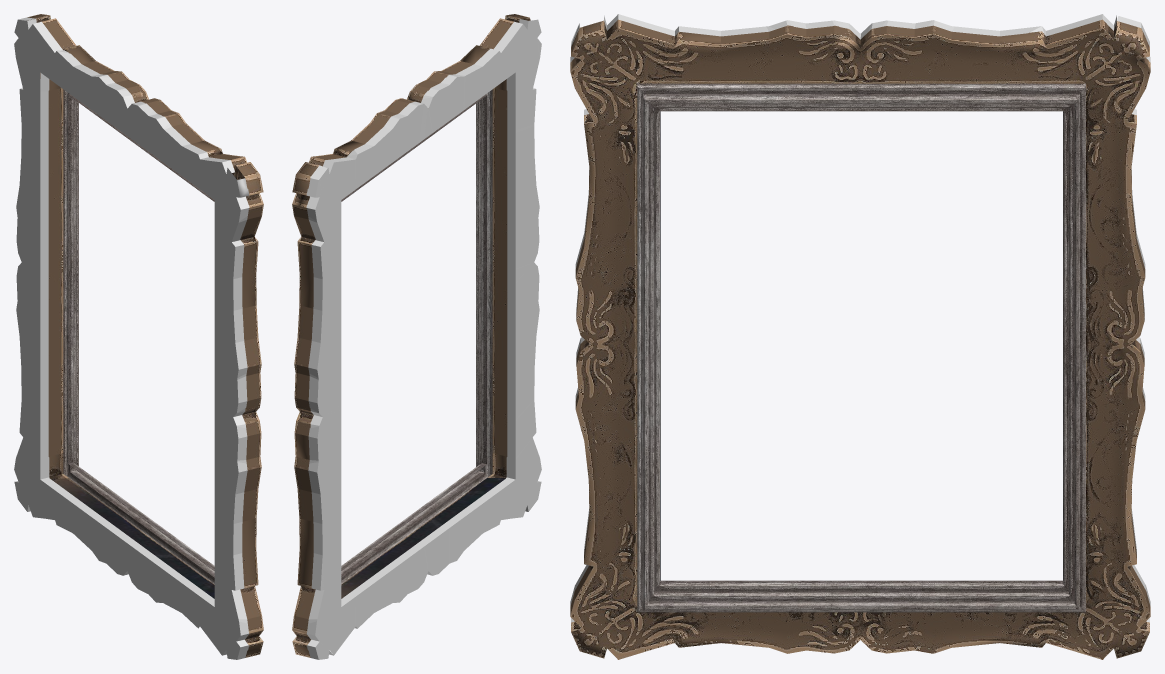
The model's file is frame.glb.
3 views of the same model, side by side, from view 1: azimuth 30°, elevation 25°; view 2: azimuth 150°, elevation 25°; view 3: azimuth 270°, elevation 25° (orthographic). The views are drawn at different scales.
Visible parts, largest first — view 1: Cube.001, g; view 2: Cube.001, g; view 3: g, Cube.001.
Boxes of the visible parts, bbox=[...] form: Cube.001: bbox=[14, 17, 249, 659]; g: bbox=[27, 14, 263, 657]; Cube.001: bbox=[306, 19, 541, 659]; g: bbox=[292, 14, 530, 657]; g: bbox=[570, 19, 1150, 659]; Cube.001: bbox=[570, 14, 1150, 622].
Size of the model in its own units: 0.1515 by 2 by 1.67.
Materials: 1 (1 with a texture image).
